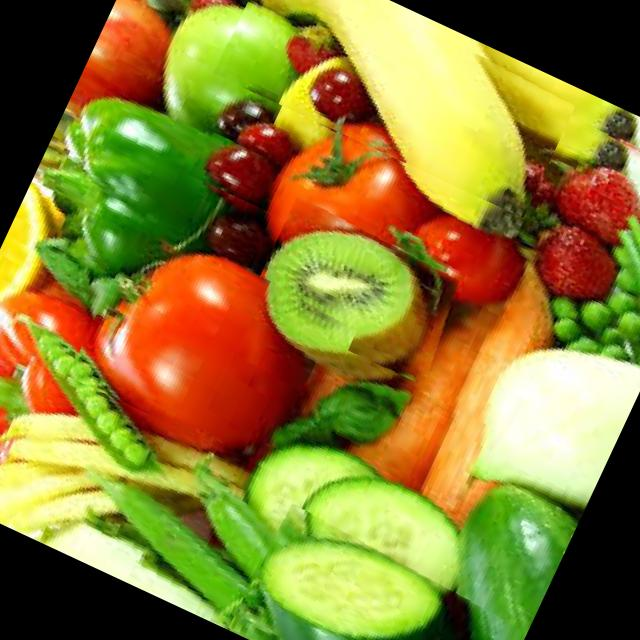Organic: (0, 0, 640, 640), (213, 0, 583, 217), (67, 210, 365, 478), (248, 194, 476, 386), (229, 499, 532, 640), (188, 130, 288, 210)
